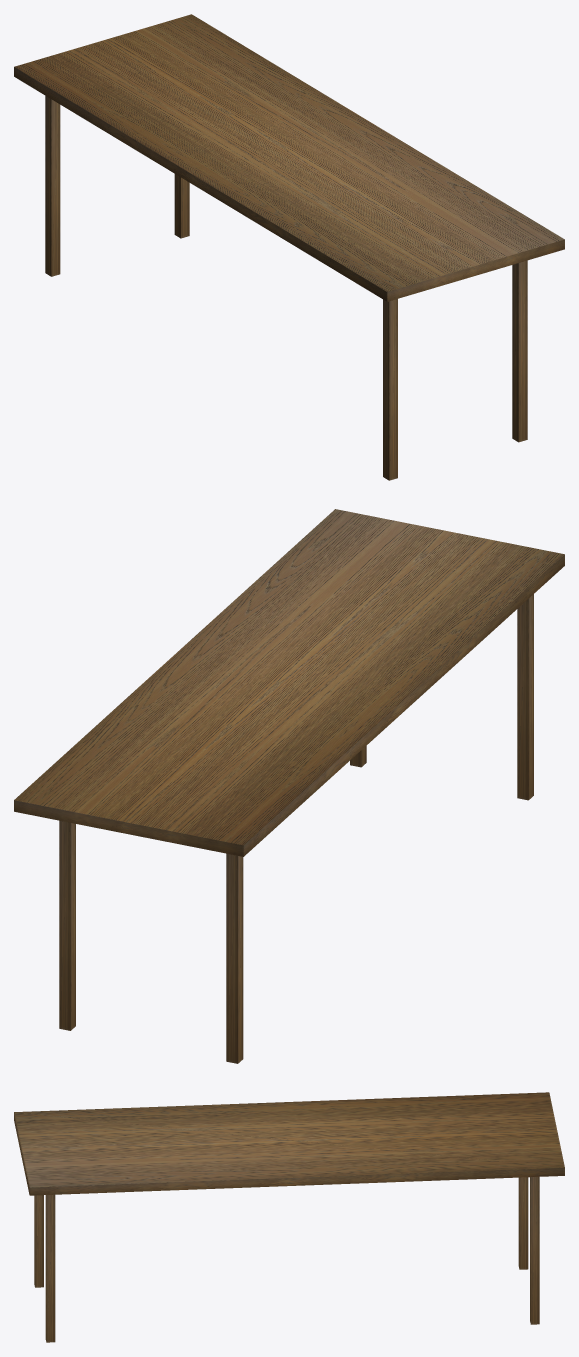
The model's file is Obstacle_081.obj.
3 renders of one model, top to bottom at view 1: azimuth 30°, elevation 25°; view 2: azimuth 150°, elevation 25°; view 3: azimuth 270°, elevation 25°, orthographic. The views are drawn at different scales.
Visible parts, largest first — view 1: Box194; view 2: Box194; view 3: Box194.
Part boxes in pixels (x1,y1,x2,y2): Box194: [14, 14, 564, 480]; Box194: [14, 509, 564, 1063]; Box194: [14, 1092, 564, 1342].
Size of the model in its own units: 49.51 by 40.27 by 121.
